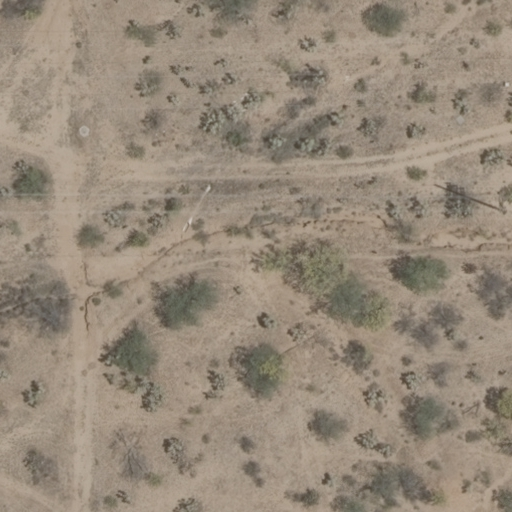DT: (491, 185, 511, 219)
